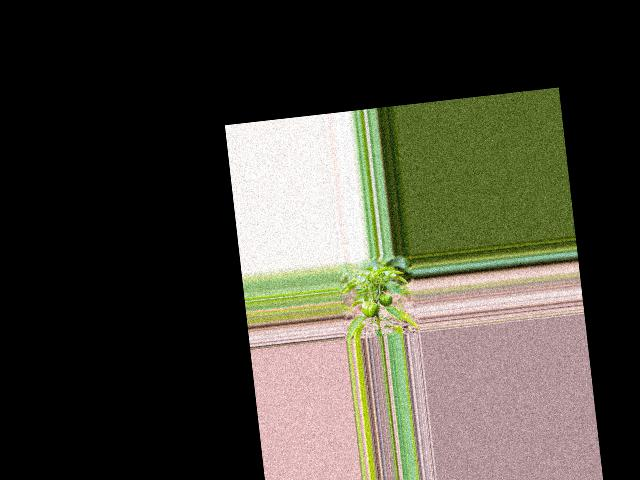bell_pepper: (377, 292, 394, 308)
